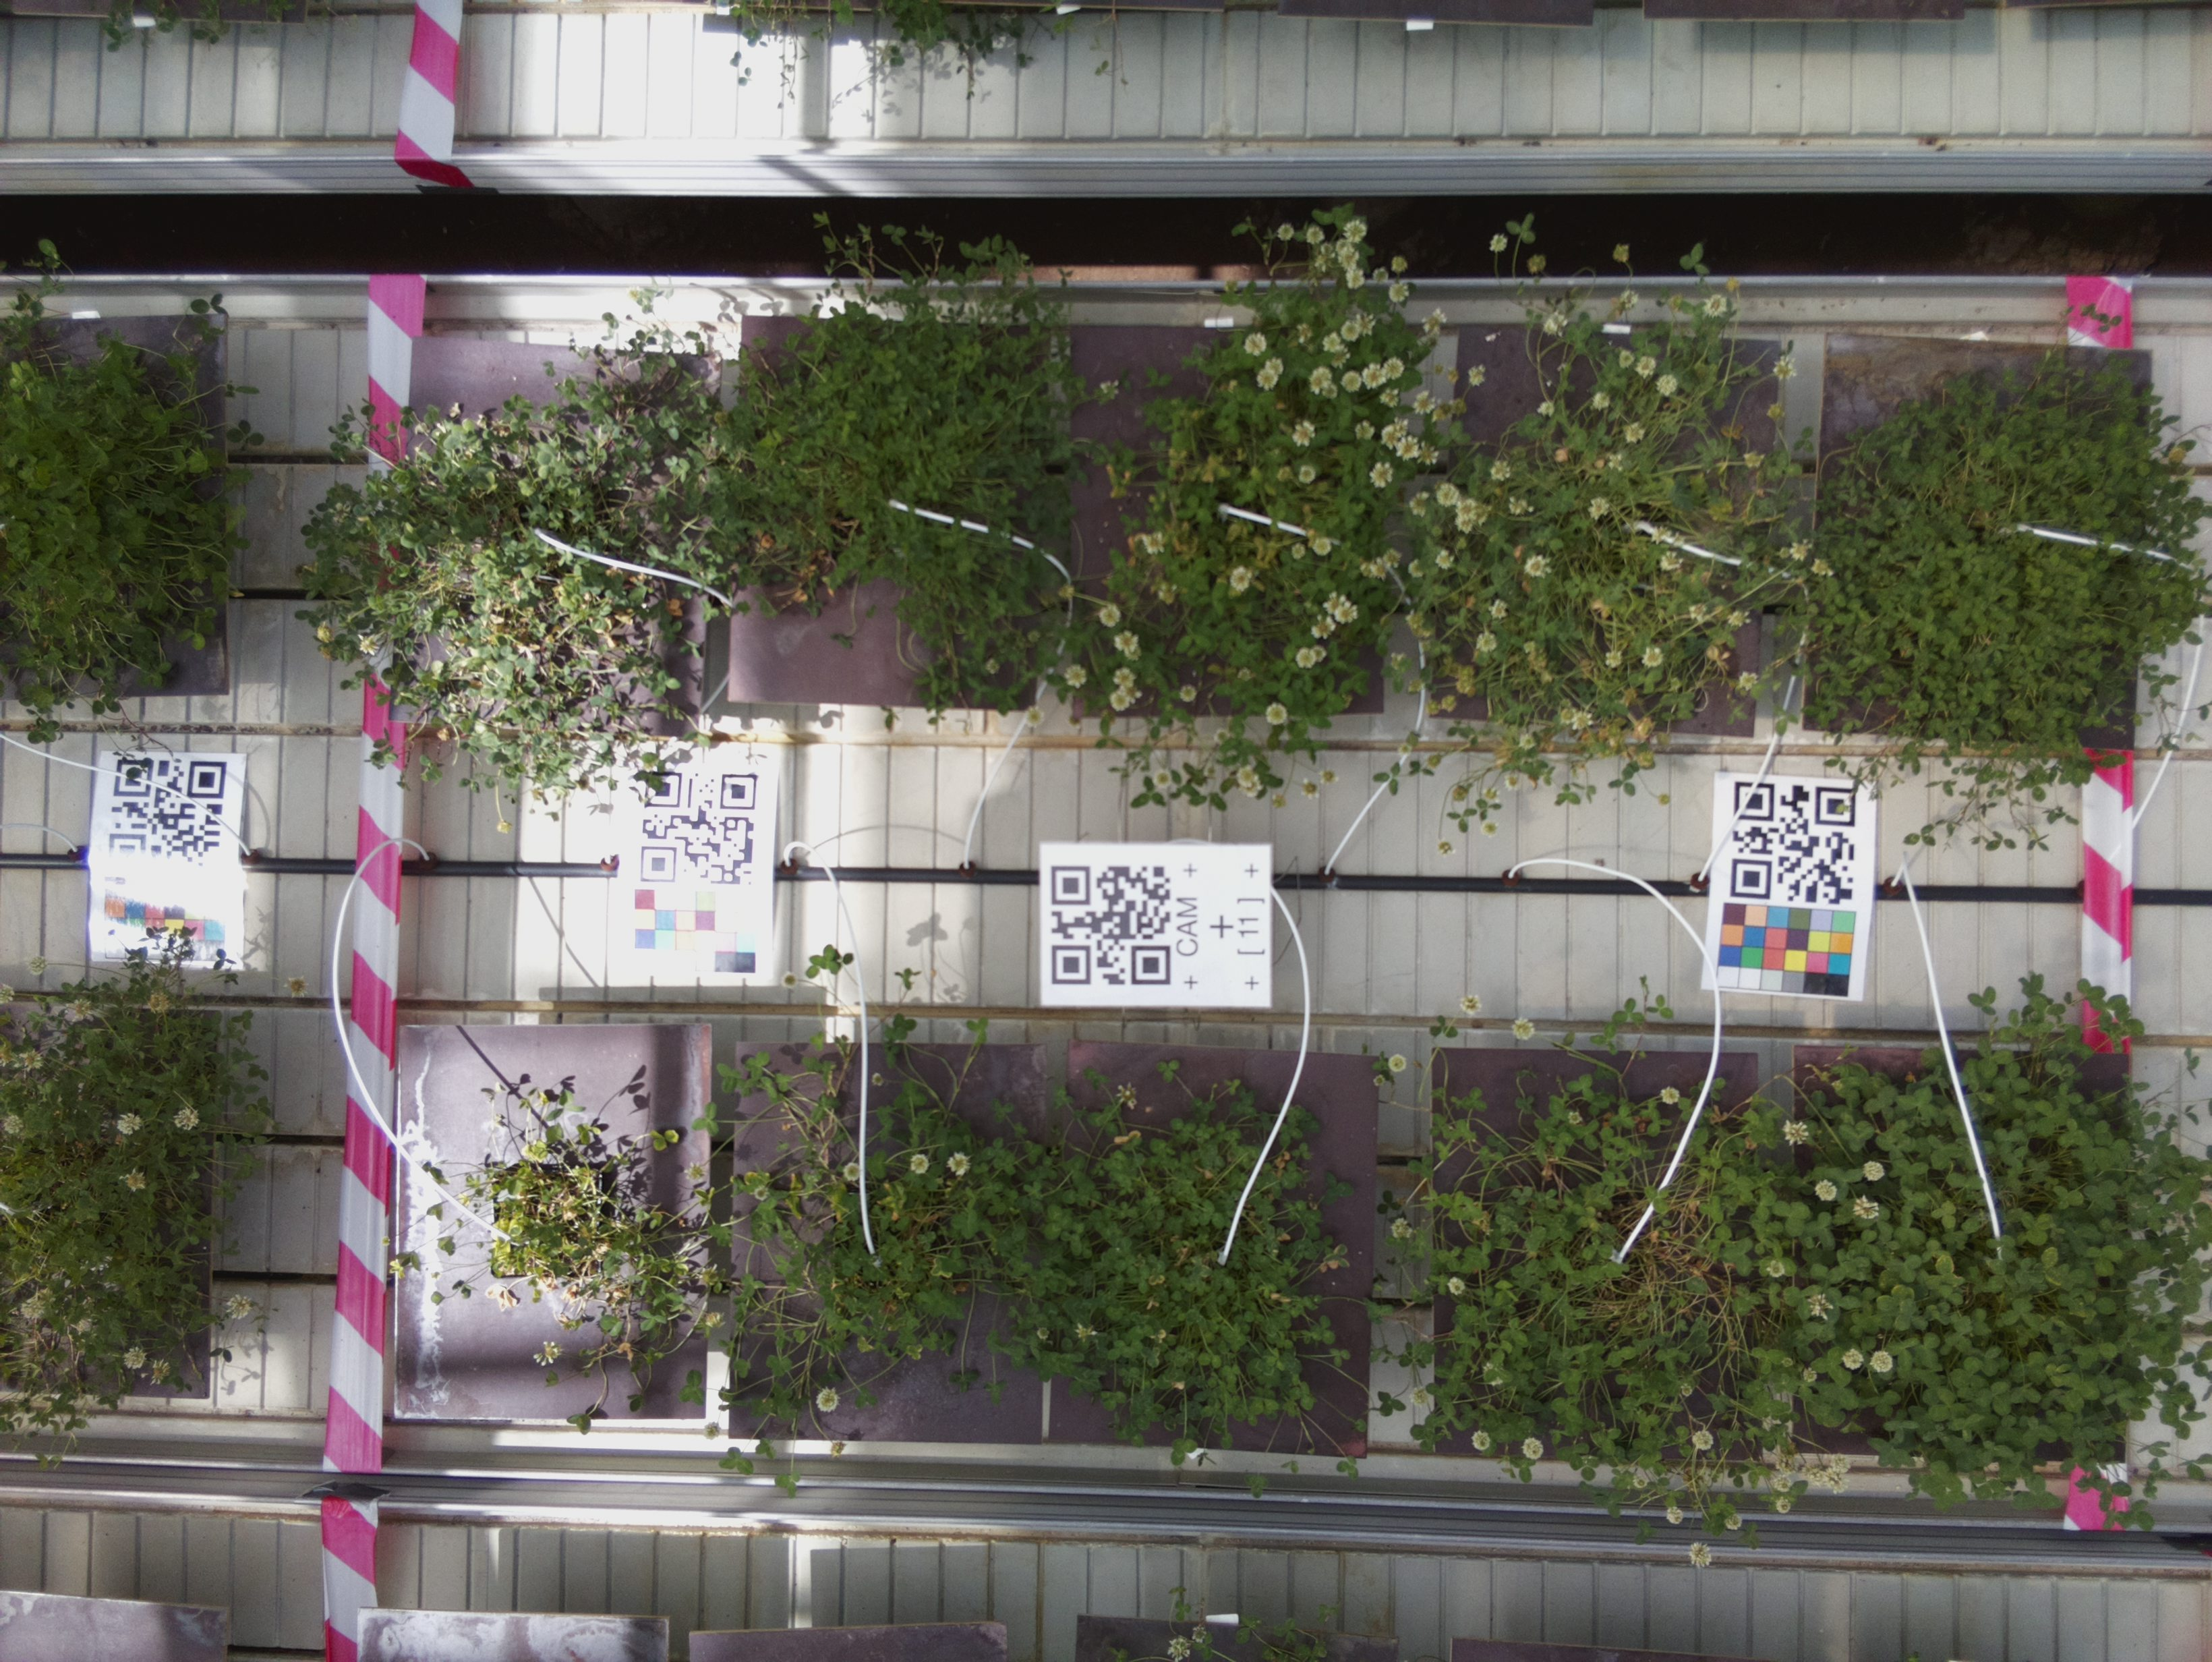POT: (1791, 1040, 2139, 1463), (1800, 332, 2154, 745), (1423, 1040, 1763, 1463), (1046, 1044, 1391, 1449), (1435, 323, 1765, 738), (382, 339, 721, 737), (1067, 318, 1393, 718), (396, 1023, 714, 1423), (733, 1040, 1046, 1446), (733, 311, 1039, 716)
QRCODE: (1041, 841, 1276, 1011)
QRCOLOR: (1707, 773, 1877, 995)
